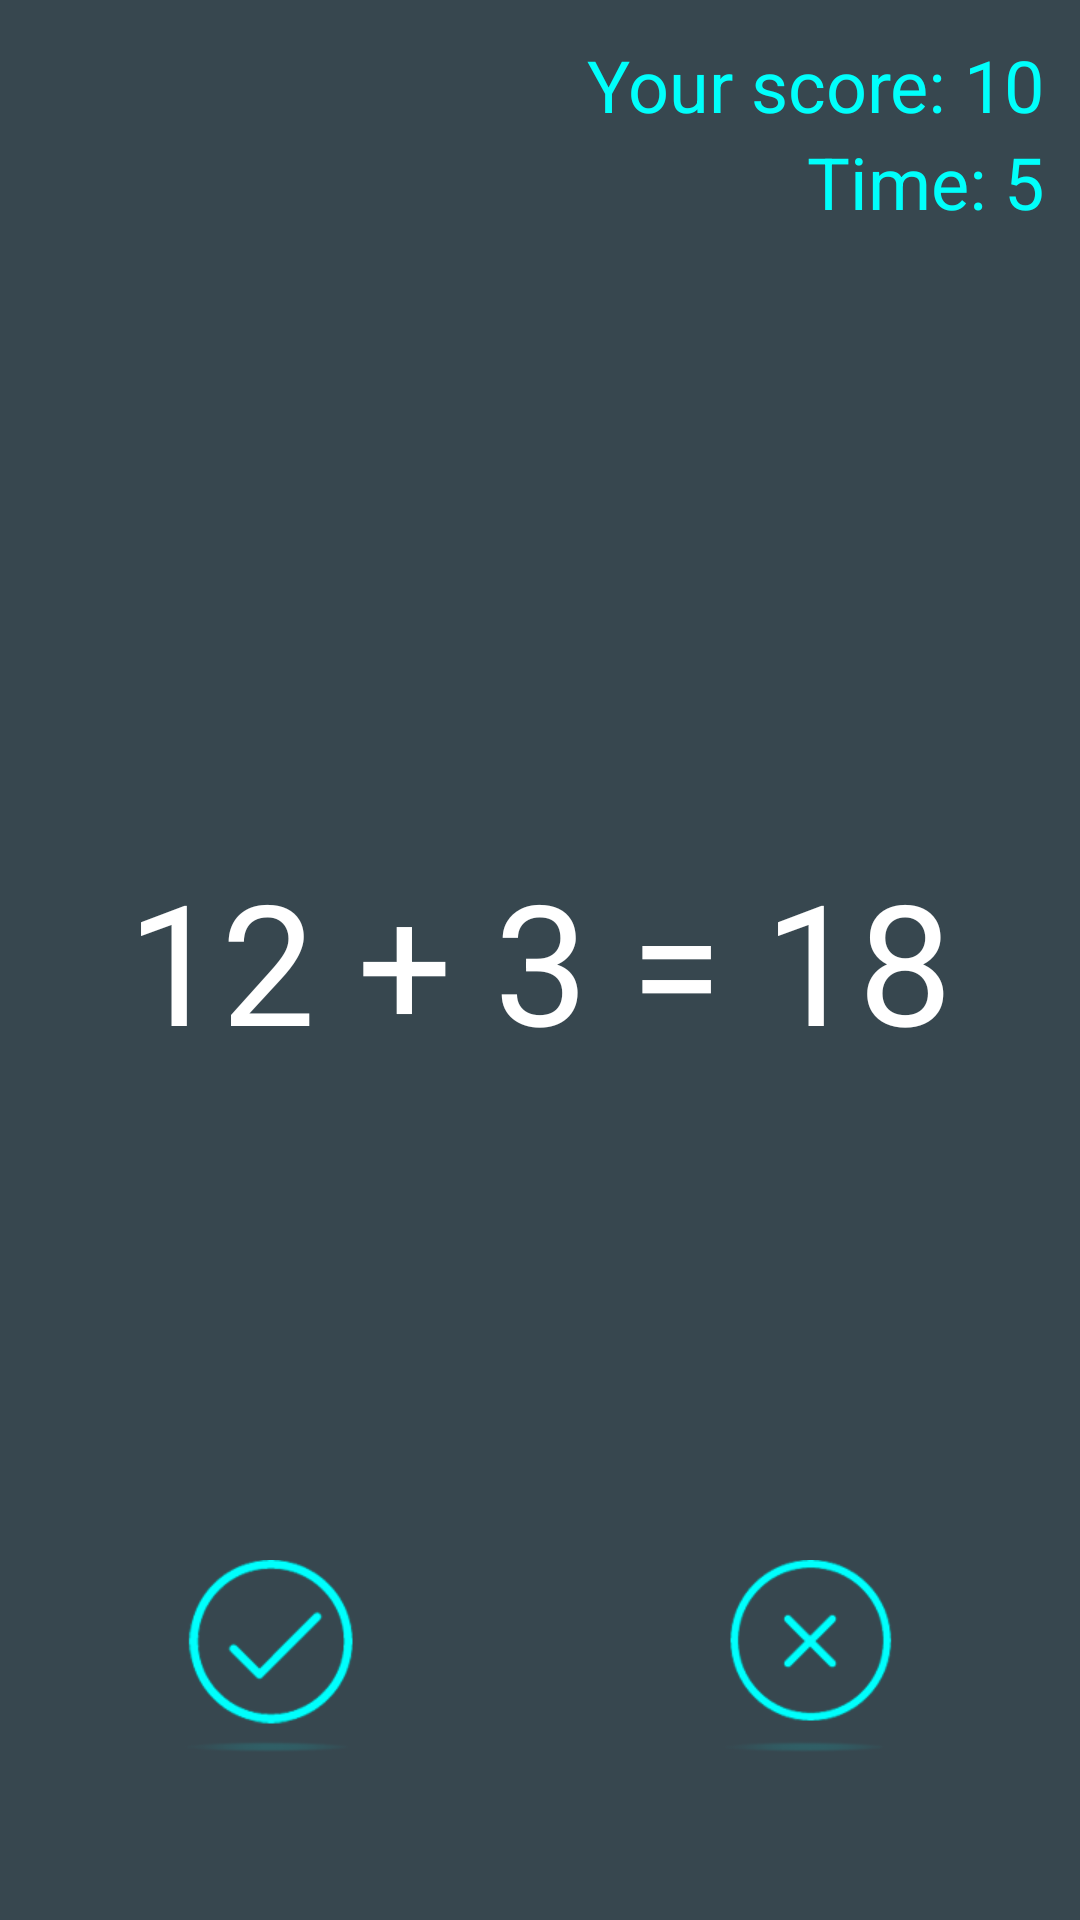

Locate icon controls on the screen. Image size 1080x1920, boxes as (x1, y1, x2, y2).
false: (730, 1560, 892, 1721)
true: (188, 1560, 353, 1724)
